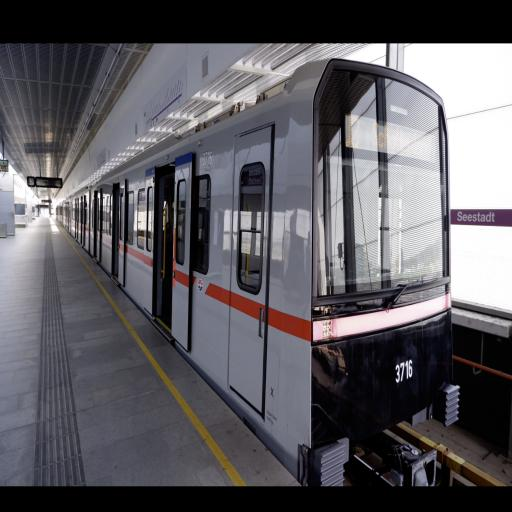X-Wagen: (54, 58, 459, 455)
